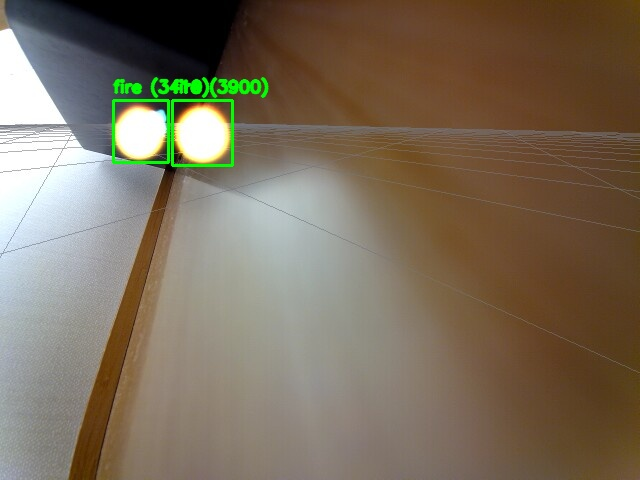fire: (172, 100, 232, 165), (113, 100, 168, 162)
